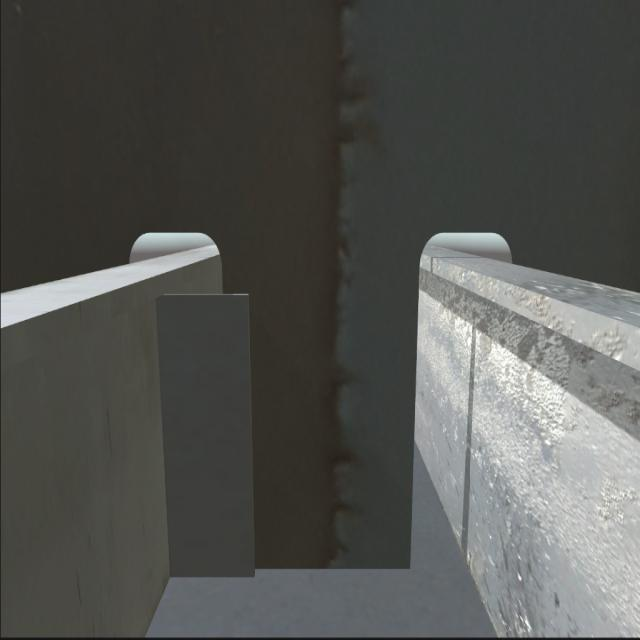fillet_yong_jeop_jang: (170, 553, 416, 584)
longi_yong_jeop_jang: (151, 291, 182, 581)
plate_CP01: (157, 294, 255, 577)
